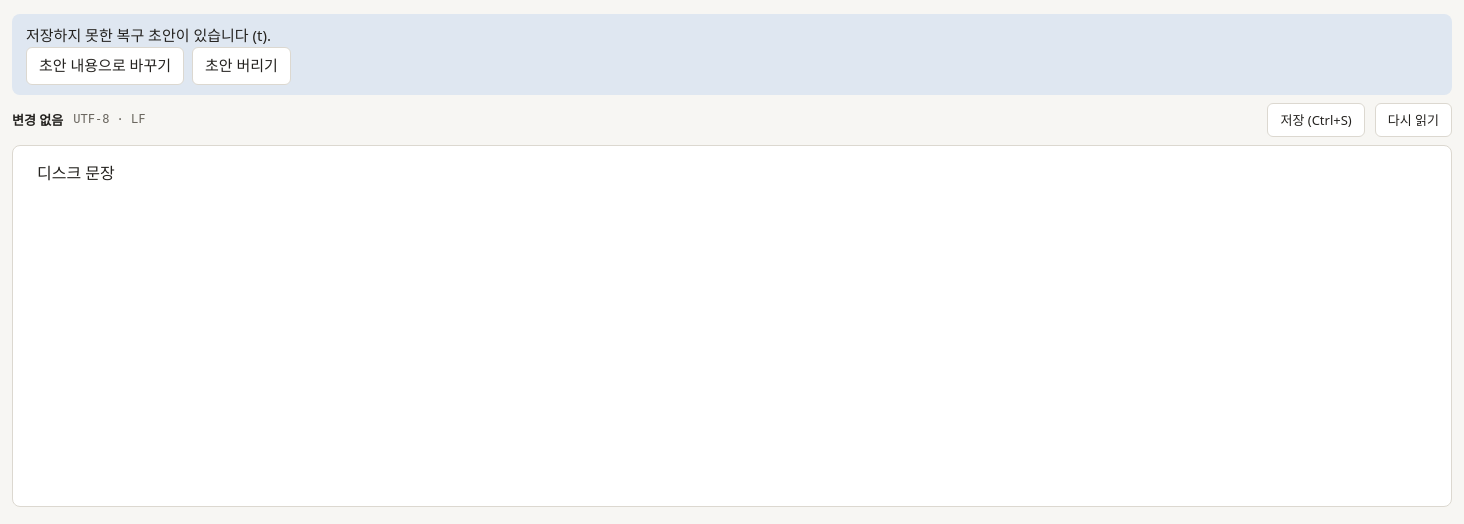
built-in editor › a recovery draft can replace the text, then saves normally
This screenshot has width=1464, height=524.
Click the button "초안 내용으로 바꾸기" at (105, 66), box [26, 47, 184, 85]
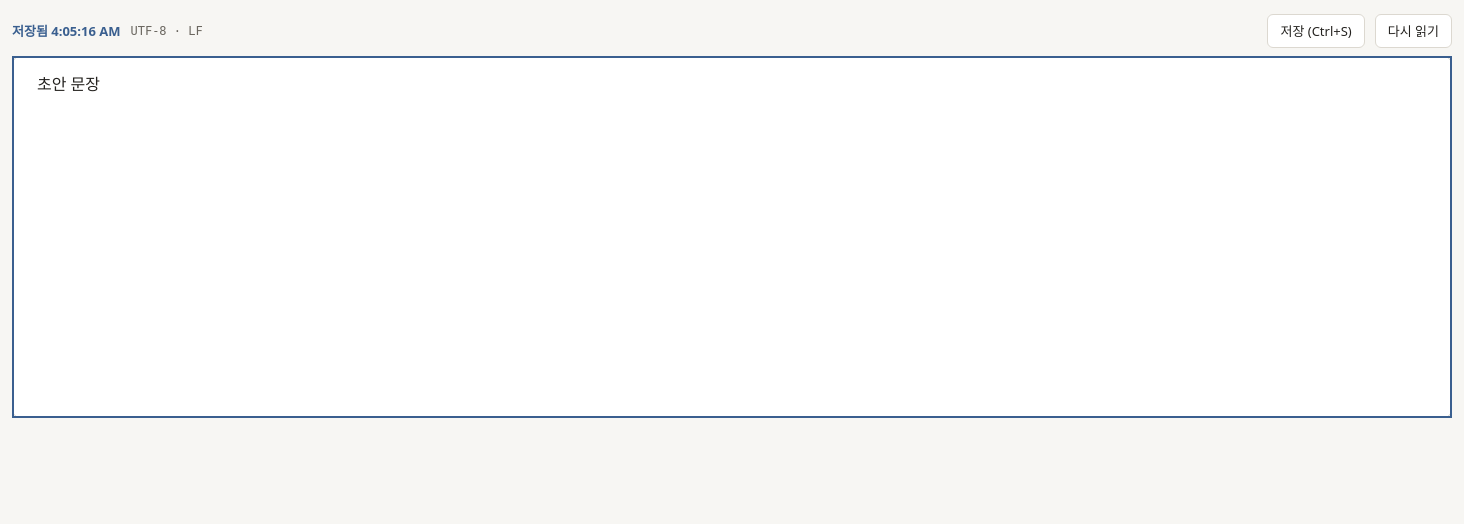
Check: the text box labelled "초안 문장" is shown, box [37, 73, 100, 95]
Check: the text "복구 초안이 있습니다" is gone
